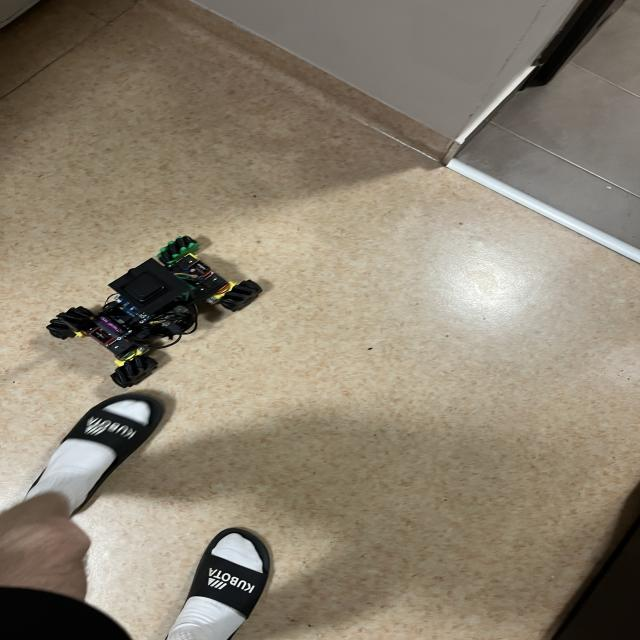robot: (47, 236, 262, 388)
